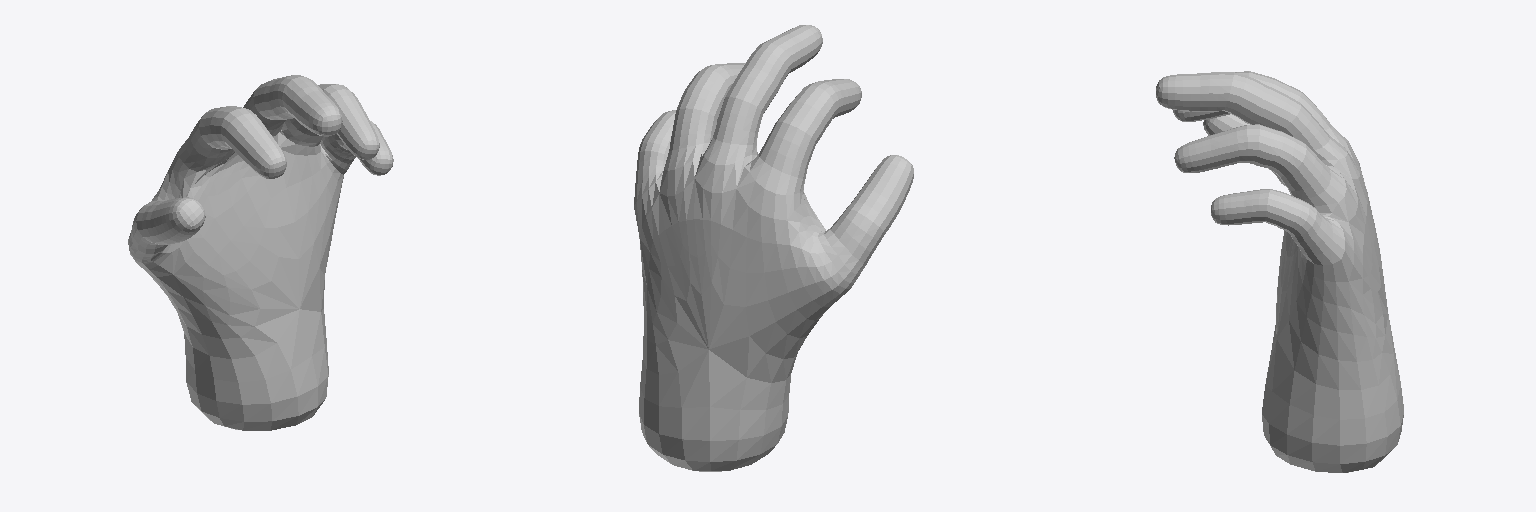
Rendered from handanimatsion28.obj.
The picture shows the model from 3 angles: view 1: azimuth 30°, elevation 25°; view 2: azimuth 150°, elevation 25°; view 3: azimuth 270°, elevation 25°; orthographic projection.
Visible parts, largest first — view 1: Cube; view 2: Cube; view 3: Cube.
Part boxes in pixels (bbox=[...]): Cube: bbox=[128, 75, 393, 430]; Cube: bbox=[634, 25, 913, 471]; Cube: bbox=[1156, 71, 1403, 472].
Bounding box in the file's own units: 3.35 × 5.21 × 3.08.